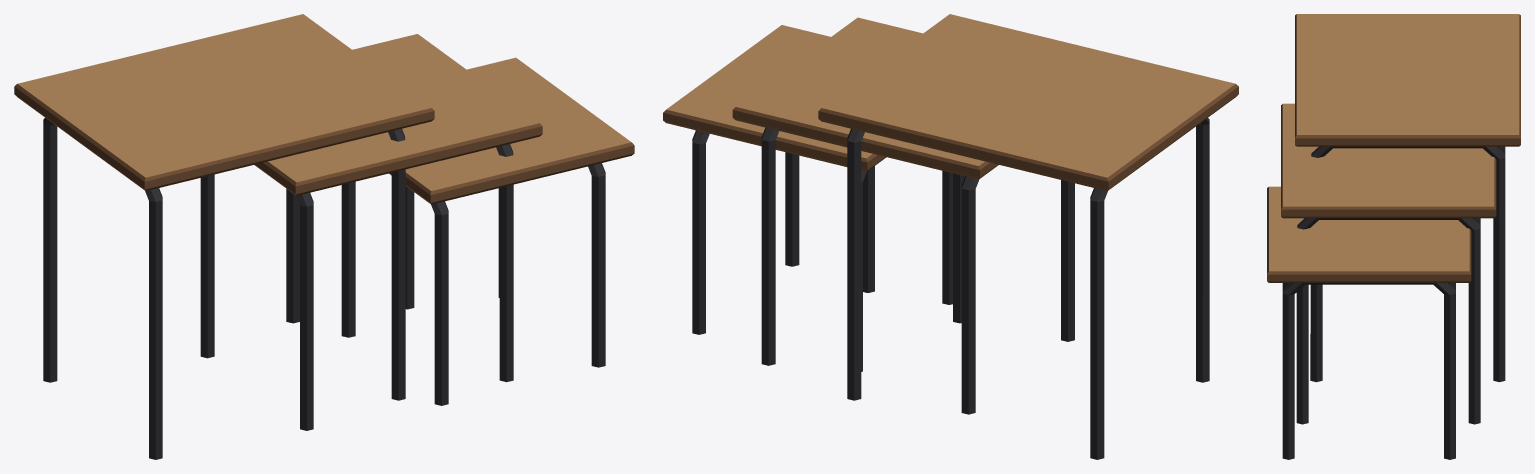
Rendered from FN_Table_Nest.obj.
The picture shows the model from 3 angles, left to right: view 1: azimuth 30°, elevation 25°; view 2: azimuth 150°, elevation 25°; view 3: azimuth 270°, elevation 25°; orthographic projection. The views are drawn at different scales.
Parts seen in each view (by area): view 1: FN_Table_Nest; view 2: FN_Table_Nest; view 3: FN_Table_Nest.
Part boxes in pixels (x1=…): FN_Table_Nest: x1=14, y1=14, x2=634, y2=459; FN_Table_Nest: x1=663, y1=14, x2=1238, y2=459; FN_Table_Nest: x1=1267, y1=14, x2=1520, y2=459.
Size of the model in its own units: 0.882 by 0.52 by 0.472.
1 material, 1 textured.
